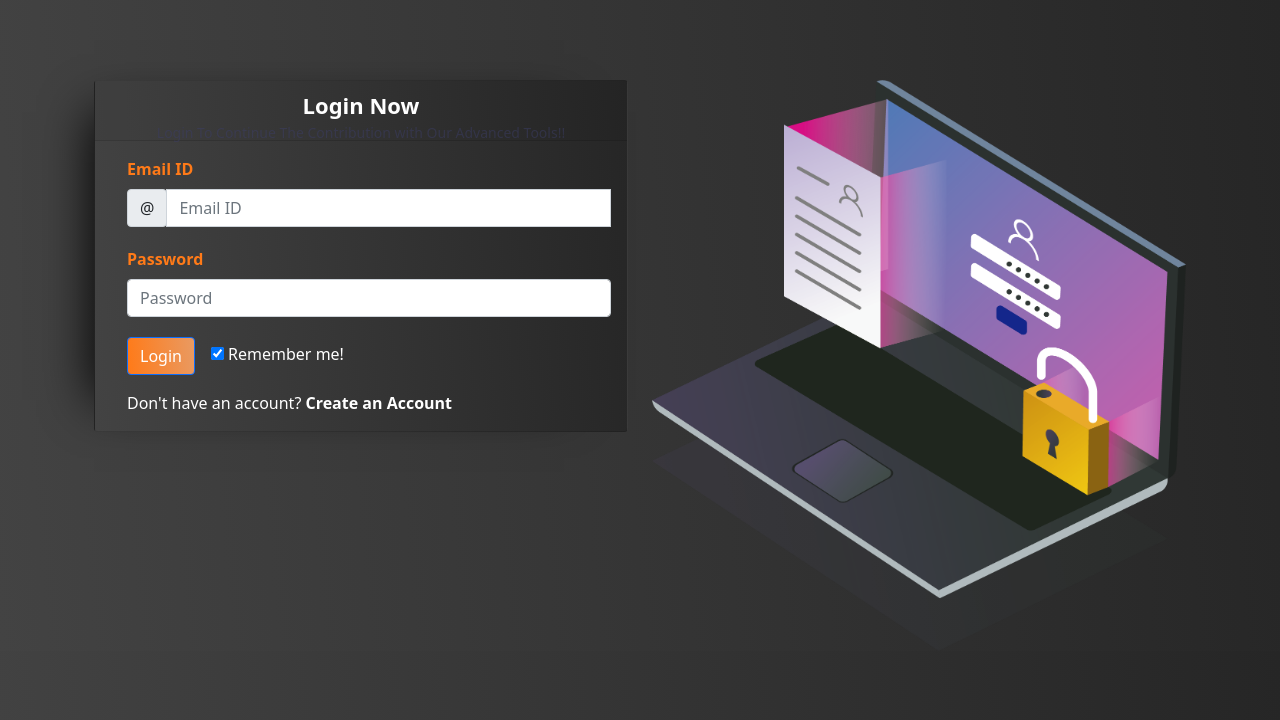
Test: UserForm Render › Toggling Login Form to Register Form && Verifying it
Click the text "Create an Account" at point(379, 403), box top-left (306, 392), bottom-right (452, 414)
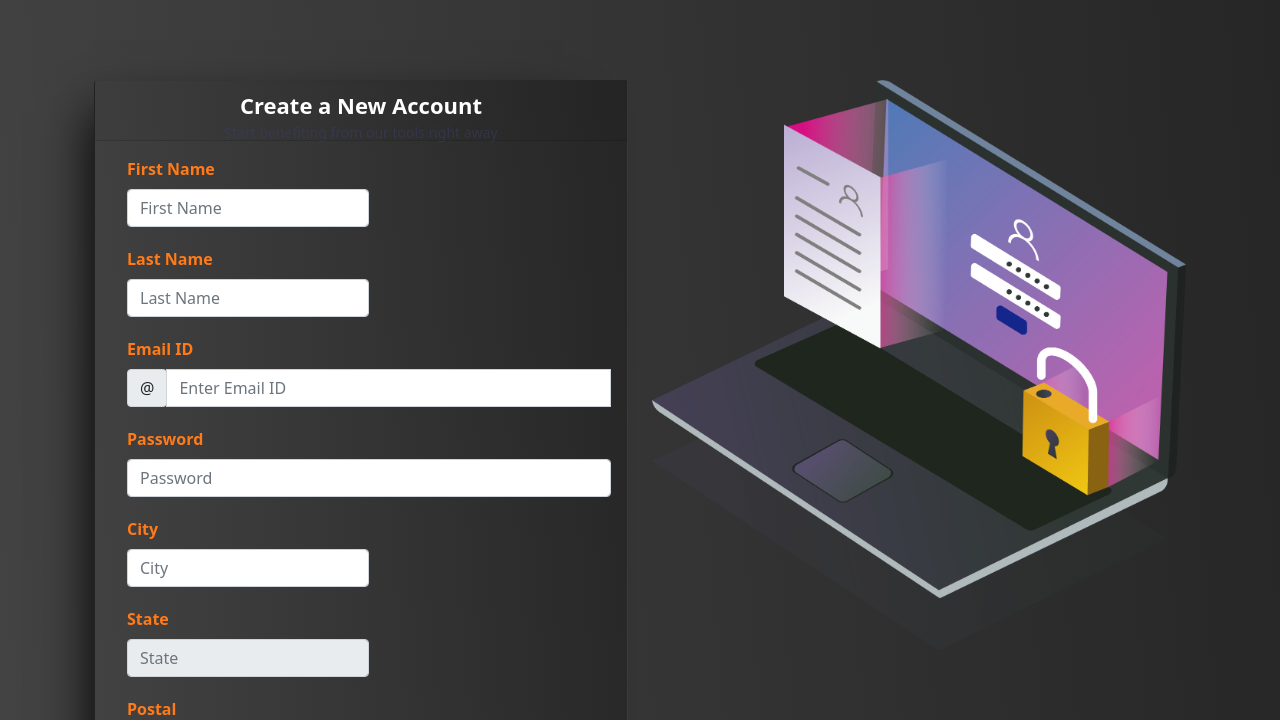
Expected: the text "Create a New Account" is shown, top-left (240, 90), bottom-right (482, 120)
